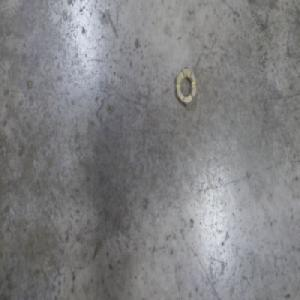Nut: (174, 64, 196, 106)
